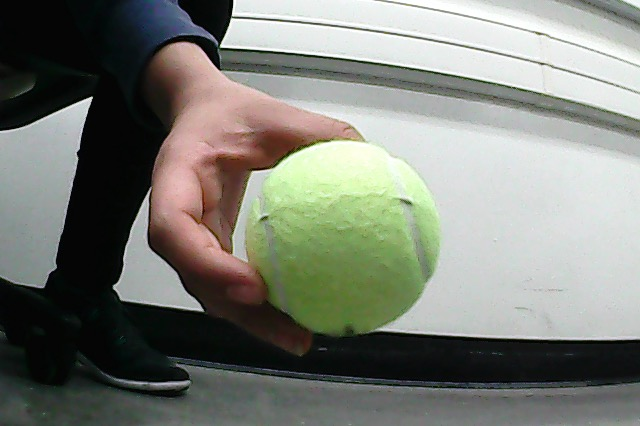ball: (245, 135, 445, 341)
